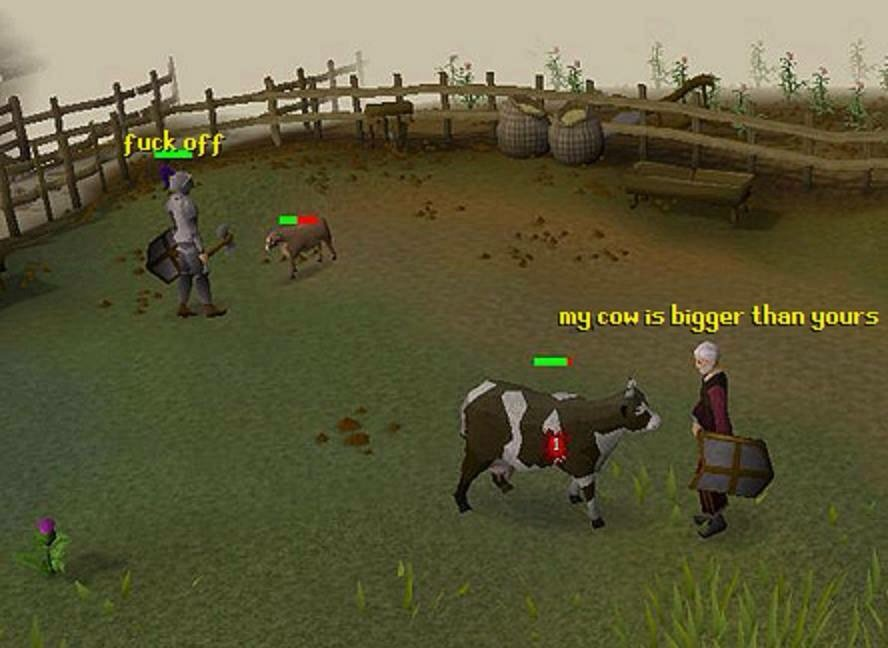rs_cow: (460, 375, 663, 540), (265, 222, 340, 271)
rs_healthbar: (278, 214, 320, 226), (151, 146, 192, 157), (529, 358, 573, 367)
rs_player: (151, 161, 234, 321), (684, 340, 750, 539)
